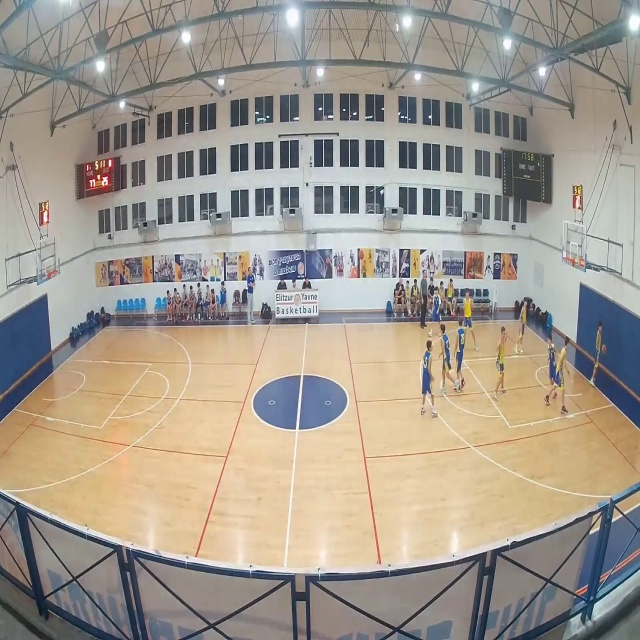Basketball: (601, 344, 607, 354)
